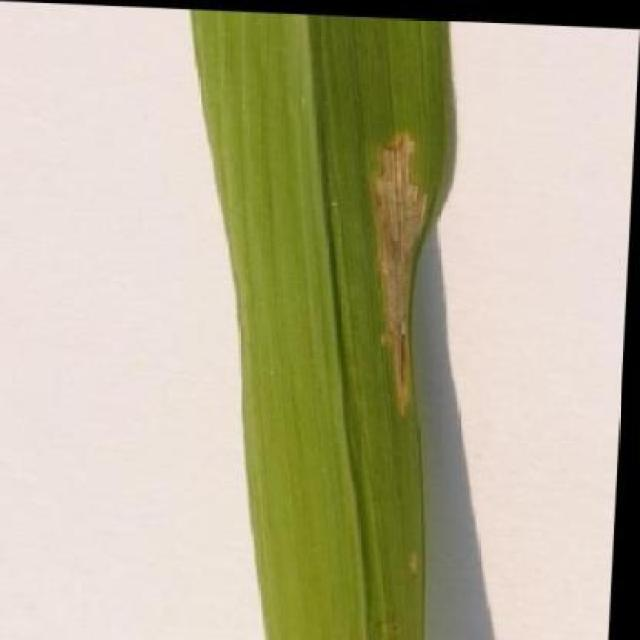Brown_Spot: (150, 6, 478, 640)
